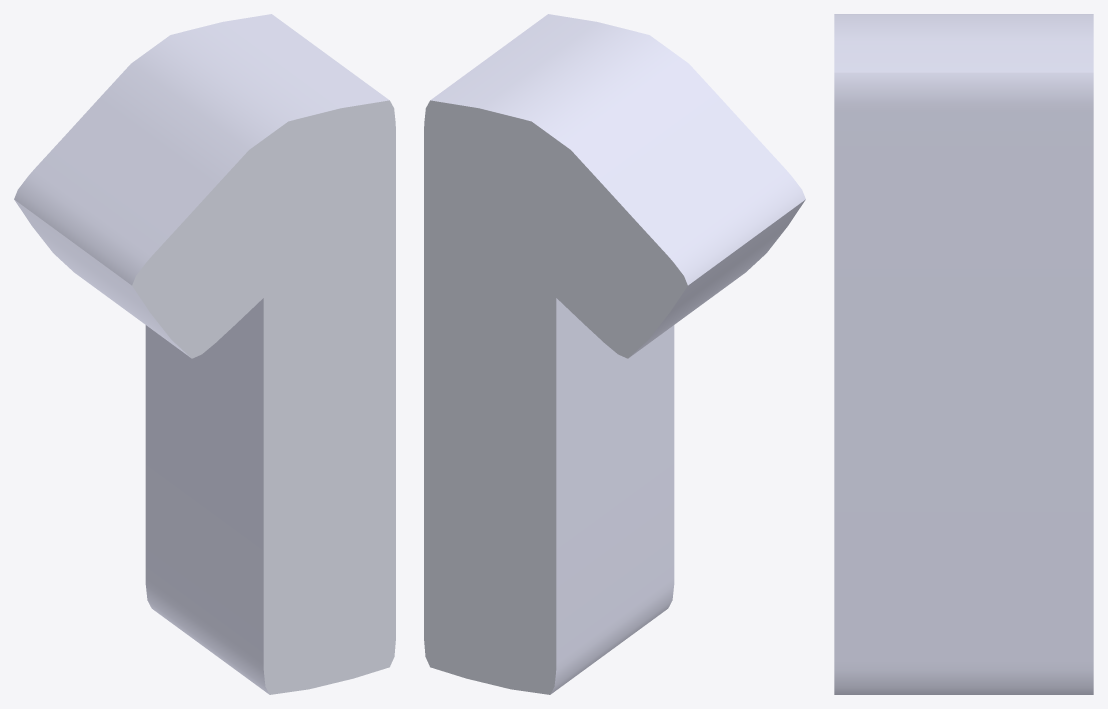
3 views of the same model, side by side, from view 1: azimuth 30°, elevation 25°; view 2: azimuth 150°, elevation 25°; view 3: azimuth 270°, elevation 25° (orthographic). The views are drawn at different scales.
Parts seen in each view (by area): view 1: 1_Zyzol_Grey; view 2: 1_Zyzol_Grey; view 3: 1_Zyzol_Grey.
Boxes of the visible parts, x1=… form: 1_Zyzol_Grey: x1=14, y1=14, x2=395, y2=694; 1_Zyzol_Grey: x1=424, y1=14, x2=805, y2=694; 1_Zyzol_Grey: x1=834, y1=14, x2=1093, y2=694.
Size of what is drawn, in the model's own units: 0.0581 by 0.1206 by 0.045.
2 materials, 2 textured.
